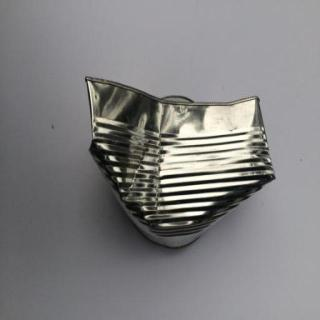Anorganik: (79, 78, 275, 252)
